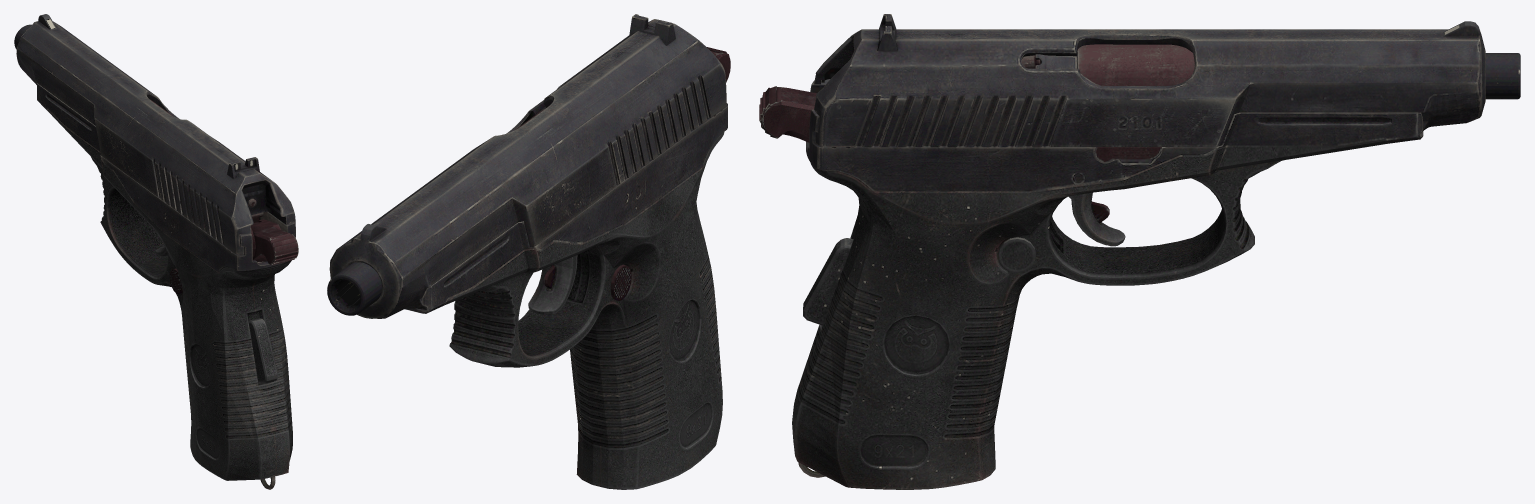
3 renders of one model, left to right at view 1: azimuth 30°, elevation 25°; view 2: azimuth 150°, elevation 25°; view 3: azimuth 270°, elevation 25°, orthographic. The views are drawn at different scales.
Parts seen in each view (by area): view 1: TW_59f98b4986f7746f546d2cef_PZ_Import; view 2: TW_59f98b4986f7746f546d2cef_PZ_Import; view 3: TW_59f98b4986f7746f546d2cef_PZ_Import.
Boxes of the visible parts, x1=… form: TW_59f98b4986f7746f546d2cef_PZ_Import: x1=14, y1=14, x2=298, y2=489; TW_59f98b4986f7746f546d2cef_PZ_Import: x1=327, y1=14, x2=730, y2=489; TW_59f98b4986f7746f546d2cef_PZ_Import: x1=759, y1=14, x2=1520, y2=489.
Size of the model in its own units: 0.0199 by 0.1289 by 0.0849.
Materials: 1 (1 with a texture image).
